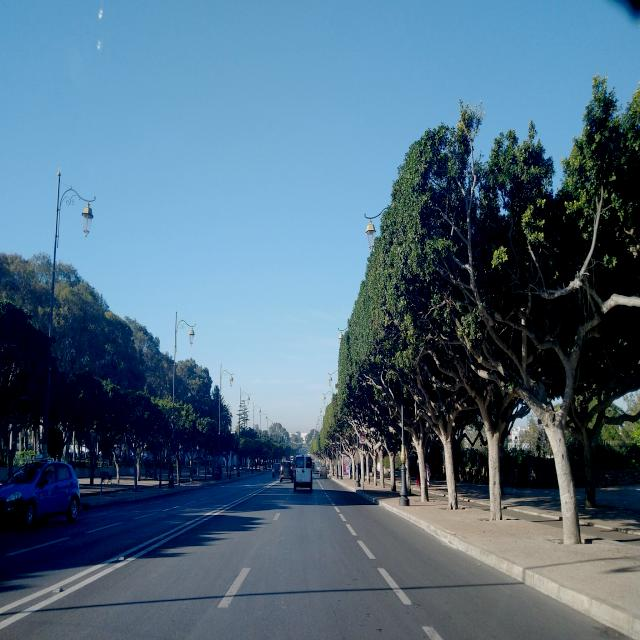car: (0, 459, 81, 529), (293, 453, 313, 493), (280, 459, 294, 483), (272, 462, 281, 478)
